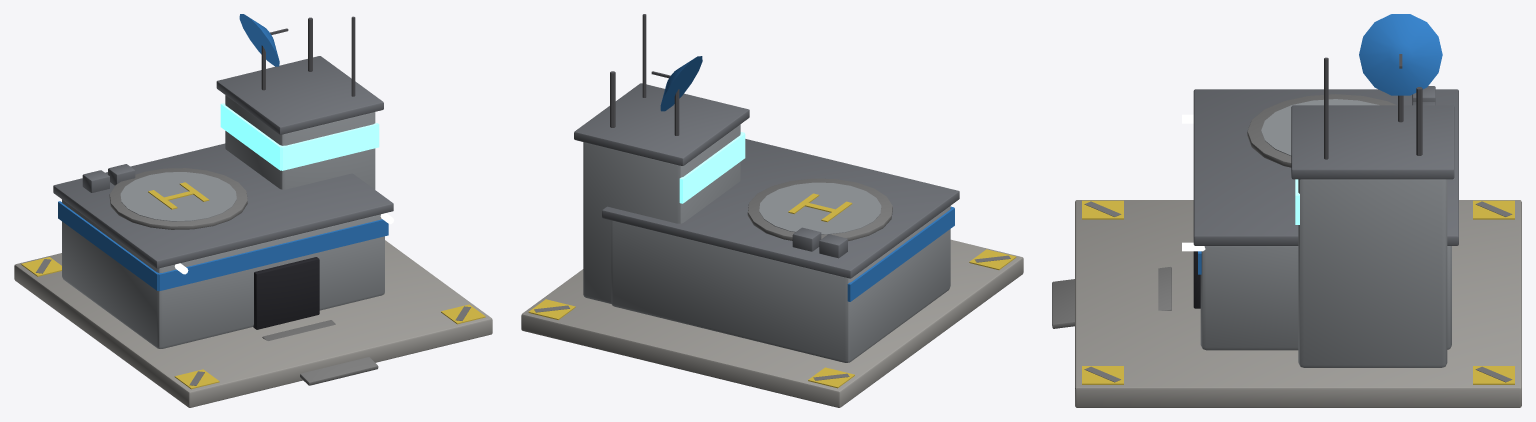
The model's file is bld_hq.glb.
The picture shows the model from 3 angles, left to right: view 1: azimuth 30°, elevation 25°; view 2: azimuth 150°, elevation 25°; view 3: azimuth 270°, elevation 25°; orthographic projection. The views are drawn at different scales.
Parts seen in each view (by area): view 1: shell, foundation, structure, fittings, radar; view 2: structure, shell, foundation, fittings, radar; view 3: foundation, structure, shell, radar, fittings.
Boxes of the visible parts, bbox=[...] form: shell: bbox=[53, 56, 393, 291]; foundation: bbox=[14, 240, 492, 407]; structure: bbox=[62, 95, 384, 348]; fittings: bbox=[82, 16, 393, 274]; radar: bbox=[239, 14, 288, 66]; structure: bbox=[583, 124, 950, 362]; shell: bbox=[574, 83, 959, 301]; foundation: bbox=[521, 239, 1023, 407]; fittings: bbox=[610, 14, 847, 258]; radar: bbox=[651, 56, 702, 111]; foundation: bbox=[1052, 200, 1521, 407]; structure: bbox=[1193, 179, 1451, 367]; shell: bbox=[1193, 89, 1458, 274]; radar: bbox=[1359, 14, 1442, 95]; fittings: bbox=[1182, 57, 1435, 251].
Bounding box in the file's own units: 9.6 × 7.7 × 10.09.
